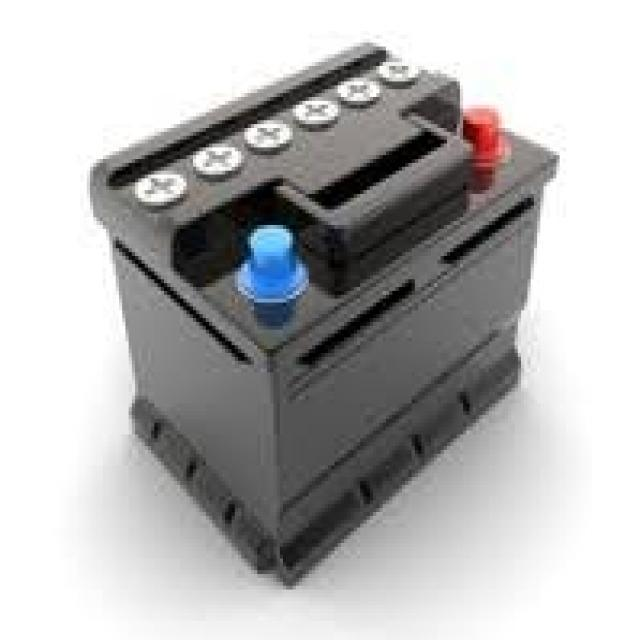battery: (89, 42, 561, 590)
